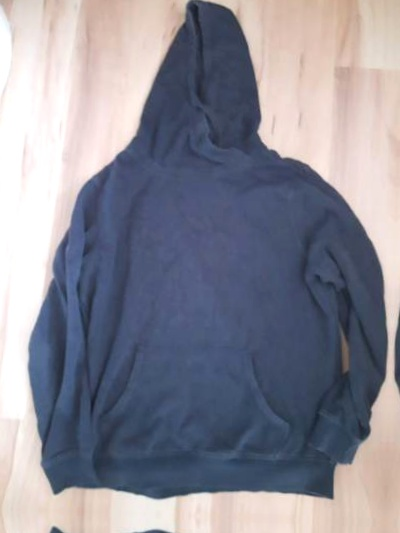Hoodie: (18, 0, 400, 499), (389, 11, 400, 512)
